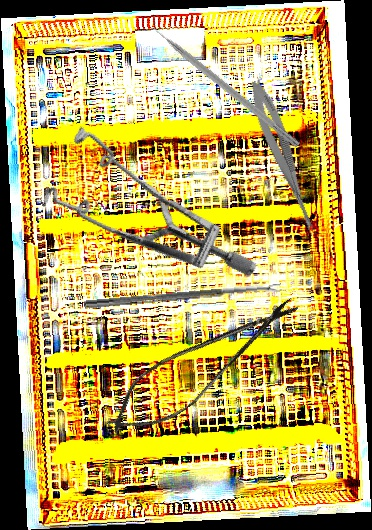Chopper: (144, 11, 307, 149)
Micro Scissor: (94, 278, 310, 452), (243, 77, 327, 238)
Speculum: (18, 83, 261, 346)
Surgical Spoon: (83, 283, 283, 310)
